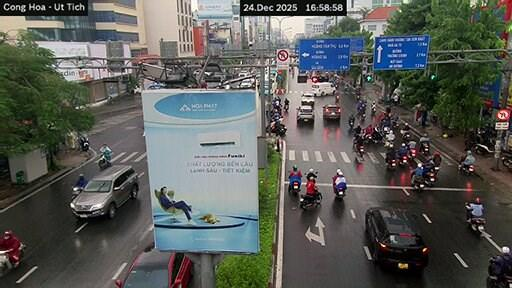motorbike: (0, 243, 25, 276), (486, 256, 511, 287), (299, 191, 321, 209), (468, 217, 485, 235), (486, 275, 511, 287), (474, 140, 495, 154), (267, 121, 286, 136), (424, 171, 437, 187), (501, 151, 511, 171), (411, 176, 424, 191), (98, 153, 110, 169), (78, 134, 89, 151), (333, 184, 345, 199), (458, 164, 474, 175), (372, 129, 384, 143), (289, 181, 300, 195), (72, 186, 83, 198), (354, 143, 364, 156), (397, 155, 408, 166), (420, 142, 429, 155), (408, 149, 416, 163), (387, 158, 396, 170), (402, 131, 410, 143), (363, 133, 372, 143), (348, 119, 354, 128), (359, 112, 365, 121), (434, 166, 439, 176), (371, 105, 375, 115), (284, 103, 288, 112), (335, 94, 339, 102)
